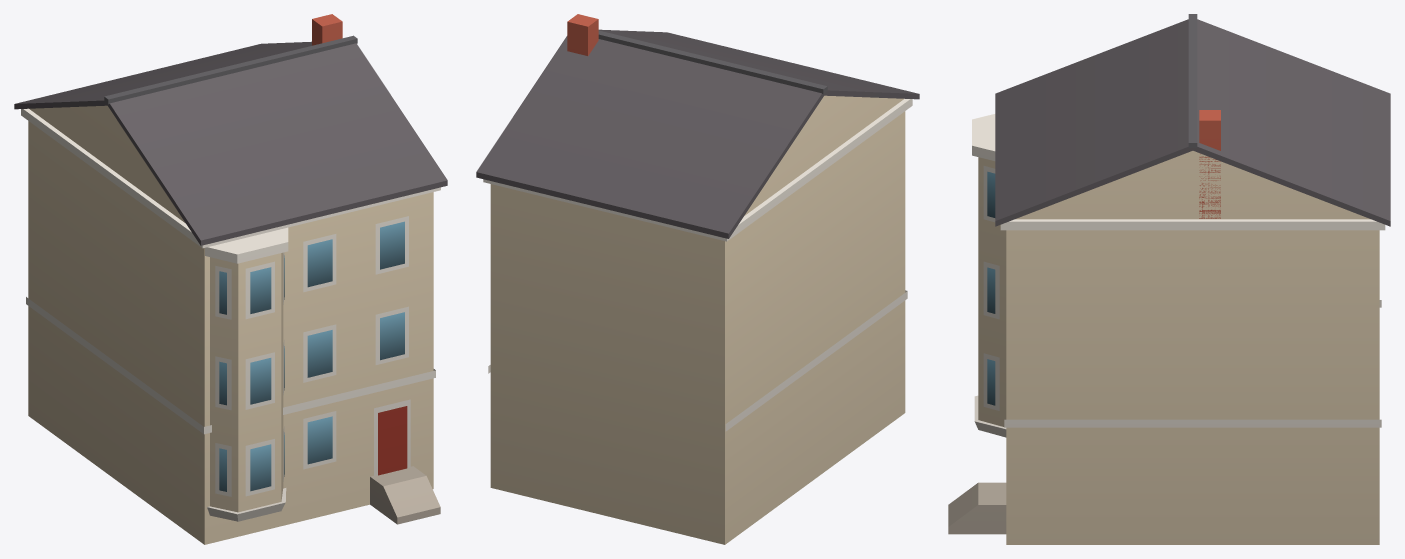
Rendered from lane_e2_far.glb.
3 renders of one model, left to right at view 1: azimuth 30°, elevation 25°; view 2: azimuth 150°, elevation 25°; view 3: azimuth 270°, elevation 25°, orthographic. The views are drawn at different scales.
Parts seen in each view (by area): view 1: lane_e2_far; view 2: lane_e2_far; view 3: lane_e2_far.
Boxes of the visible parts, left/top/right/bottom form: lane_e2_far: left=14, top=14, right=447, bottom=544; lane_e2_far: left=476, top=14, right=919, bottom=544; lane_e2_far: left=948, top=14, right=1390, bottom=544.
Size of the model in its own units: 9.8 by 15.05 by 14.21.
Materials: 1 (1 with a texture image).
